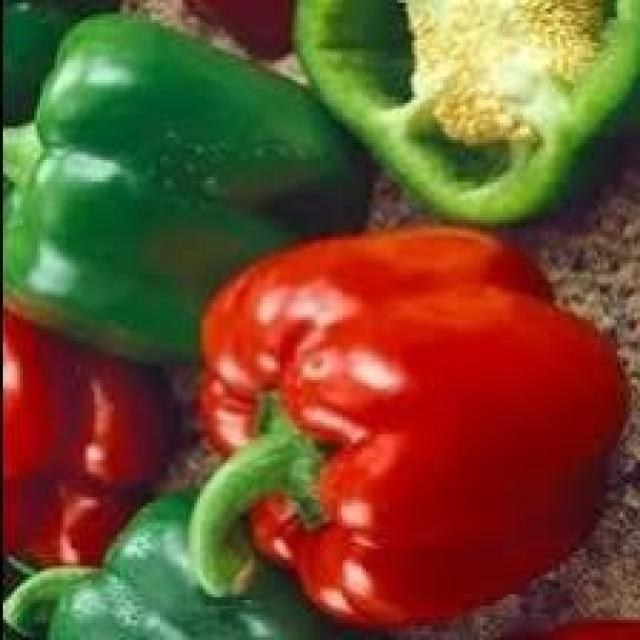Pepper: (197, 223, 631, 629), (6, 9, 383, 371), (3, 306, 183, 577)
